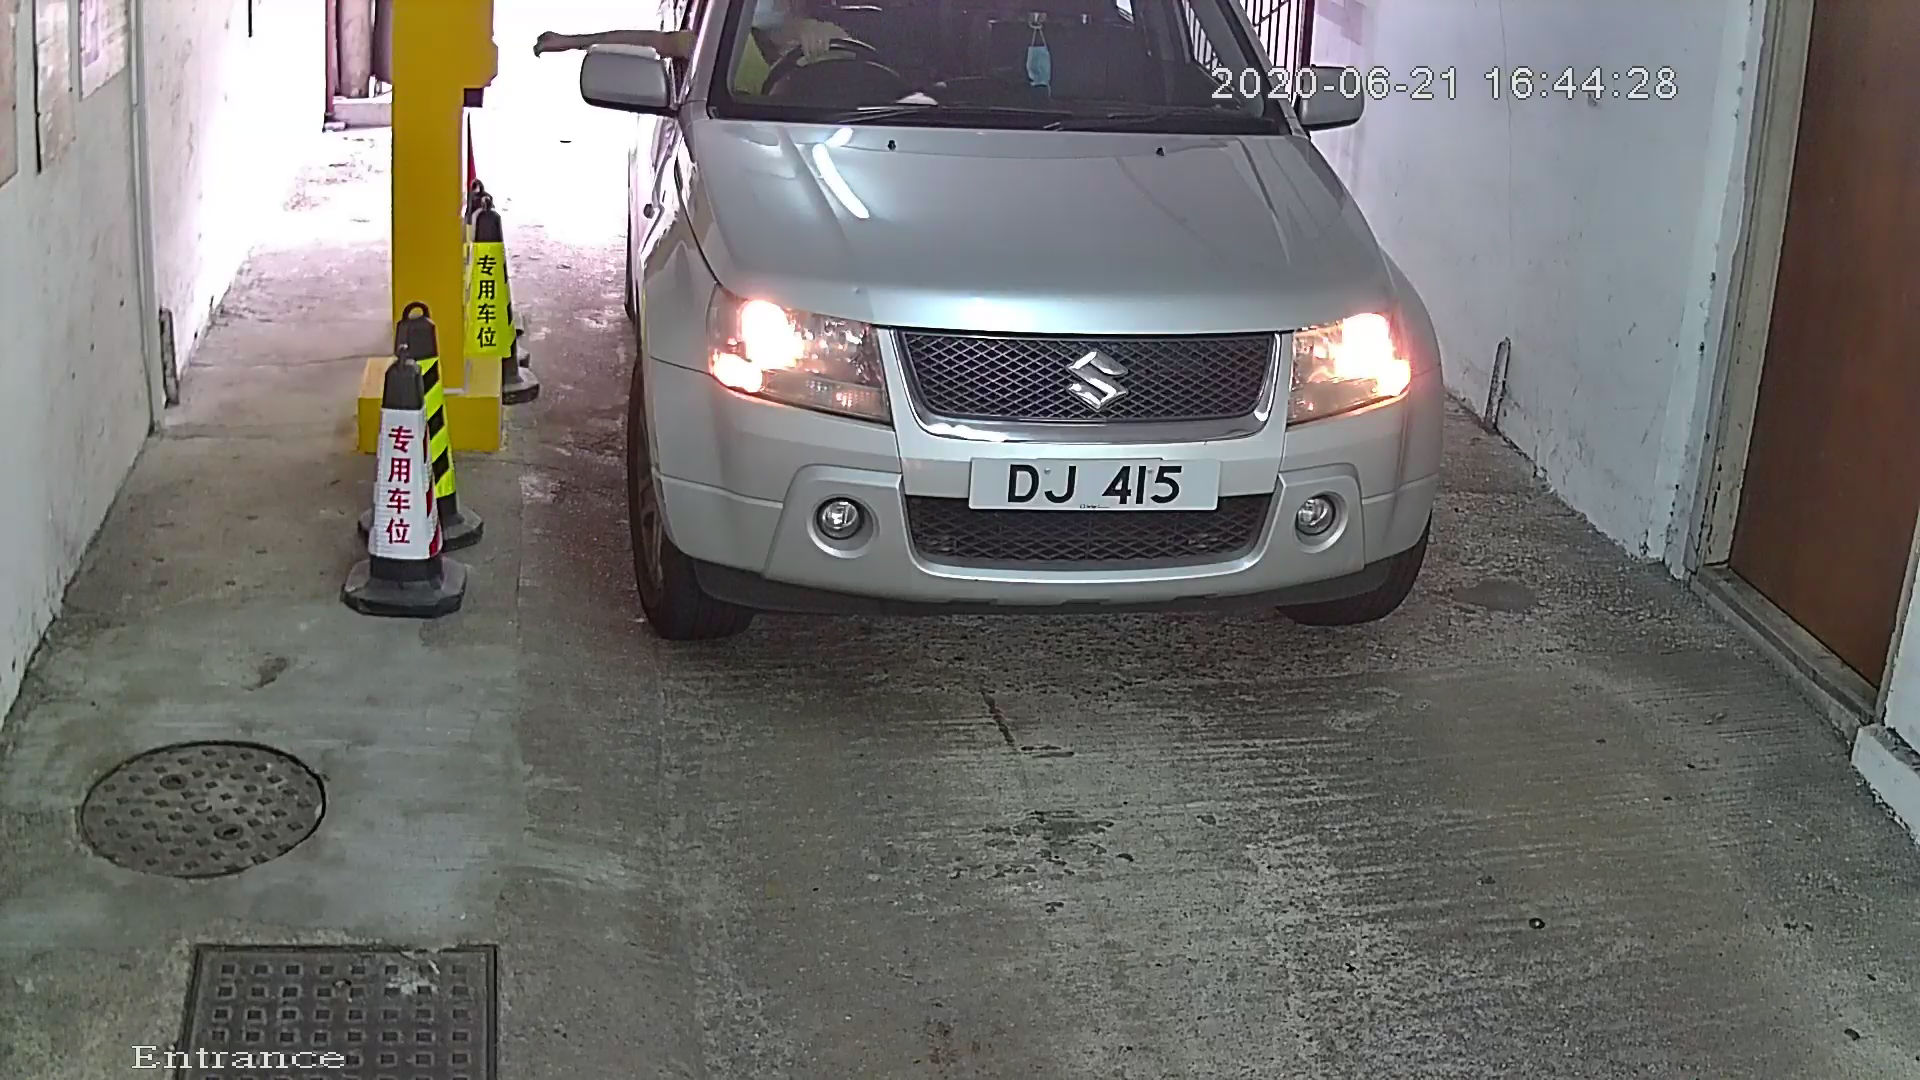privatecar: (555, 3, 1480, 680)
